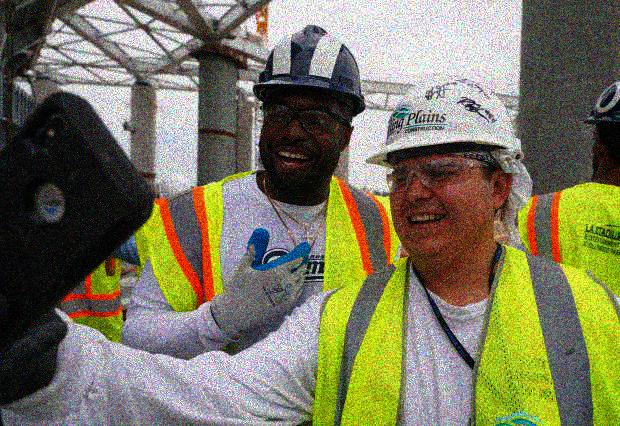helmet: (368, 72, 519, 267), (254, 24, 369, 192), (583, 78, 620, 184)
